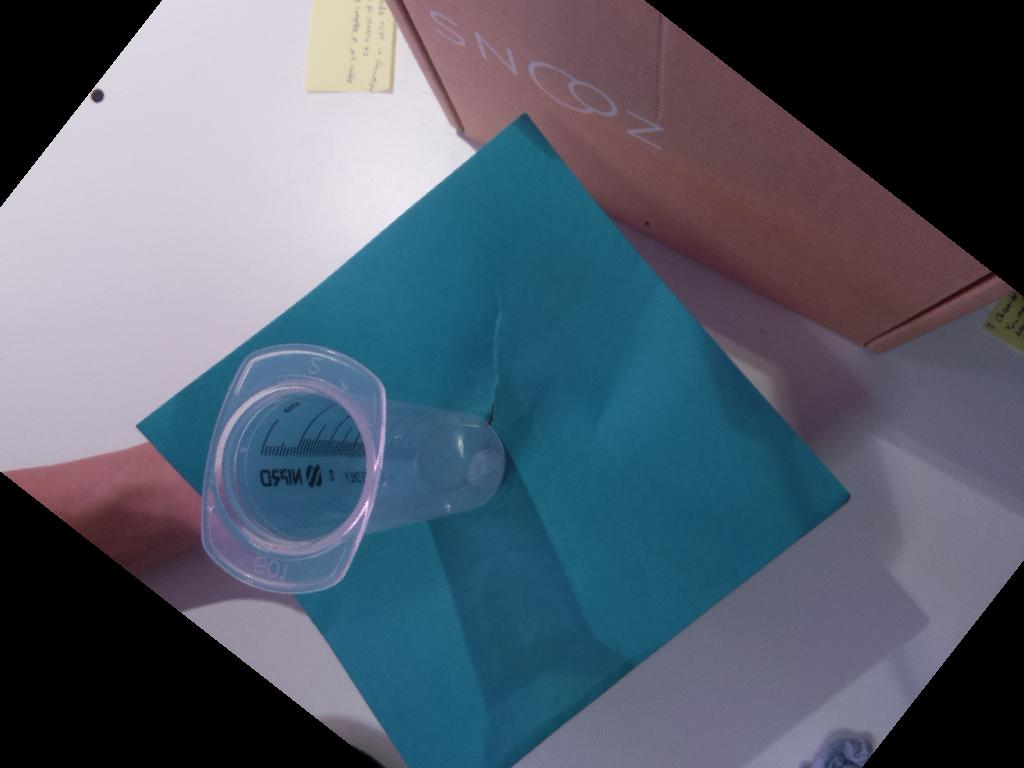clean: (202, 343, 389, 597)
